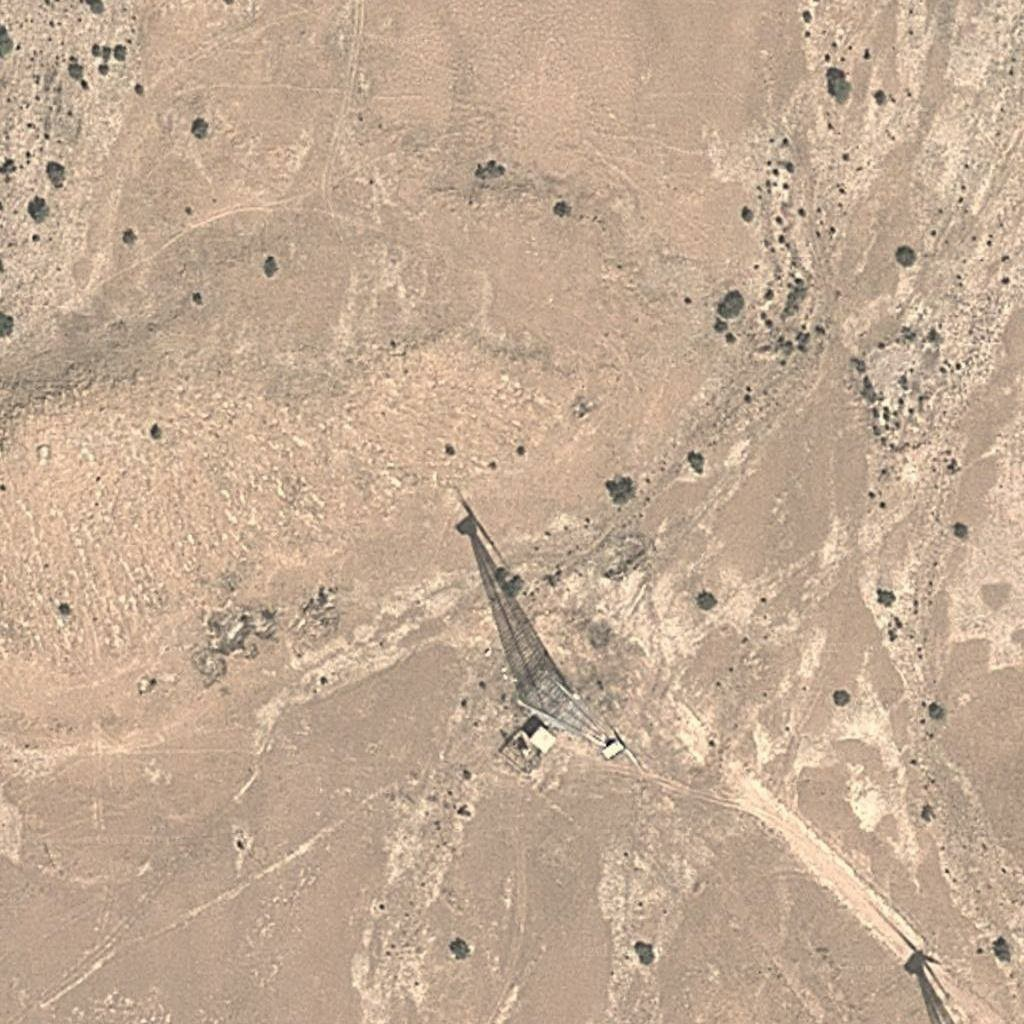Windmill: (436, 490, 579, 695)
